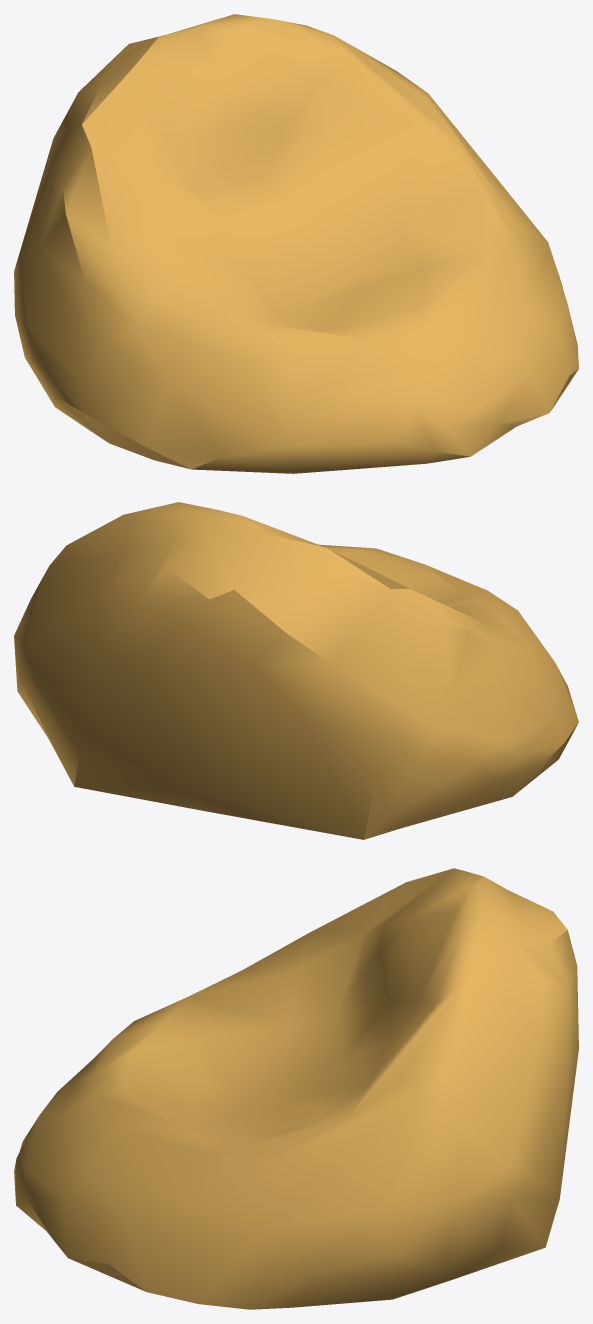
The model's file is Beanbag_Cream.glb.
3 views of the same model, one above another, from view 1: azimuth 30°, elevation 25°; view 2: azimuth 150°, elevation 25°; view 3: azimuth 270°, elevation 25° (orthographic). The views are drawn at different scales.
Visible parts, largest first — view 1: Puf_Beige; view 2: Puf_Beige; view 3: Puf_Beige.
Boxes of the visible parts, bbox=[...] form: Puf_Beige: bbox=[14, 14, 578, 473]; Puf_Beige: bbox=[14, 502, 578, 839]; Puf_Beige: bbox=[14, 868, 578, 1309].
Size of what is drawn, in the model's own units: 1.81 by 0.9886 by 1.73.
Materials: 1 (1 with a texture image).
